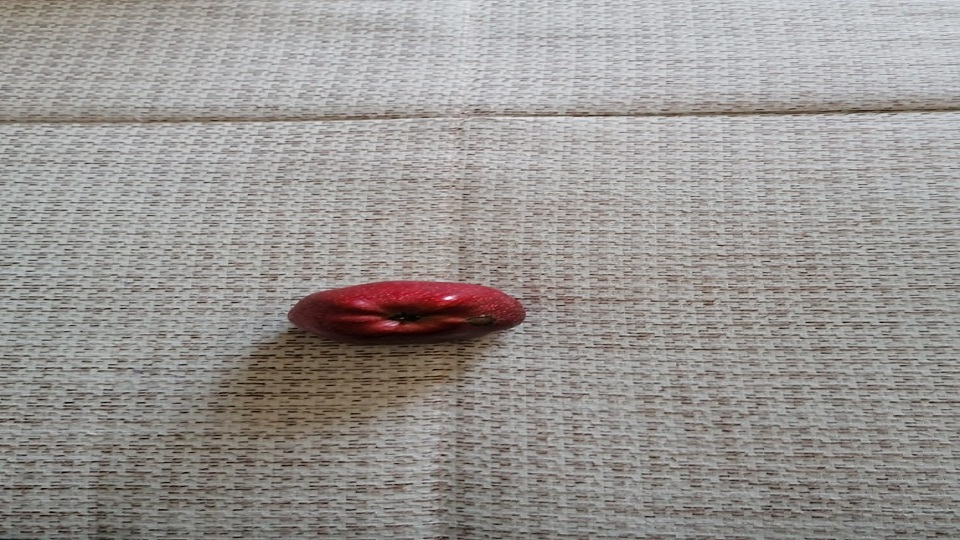elma: (286, 279, 528, 346)
